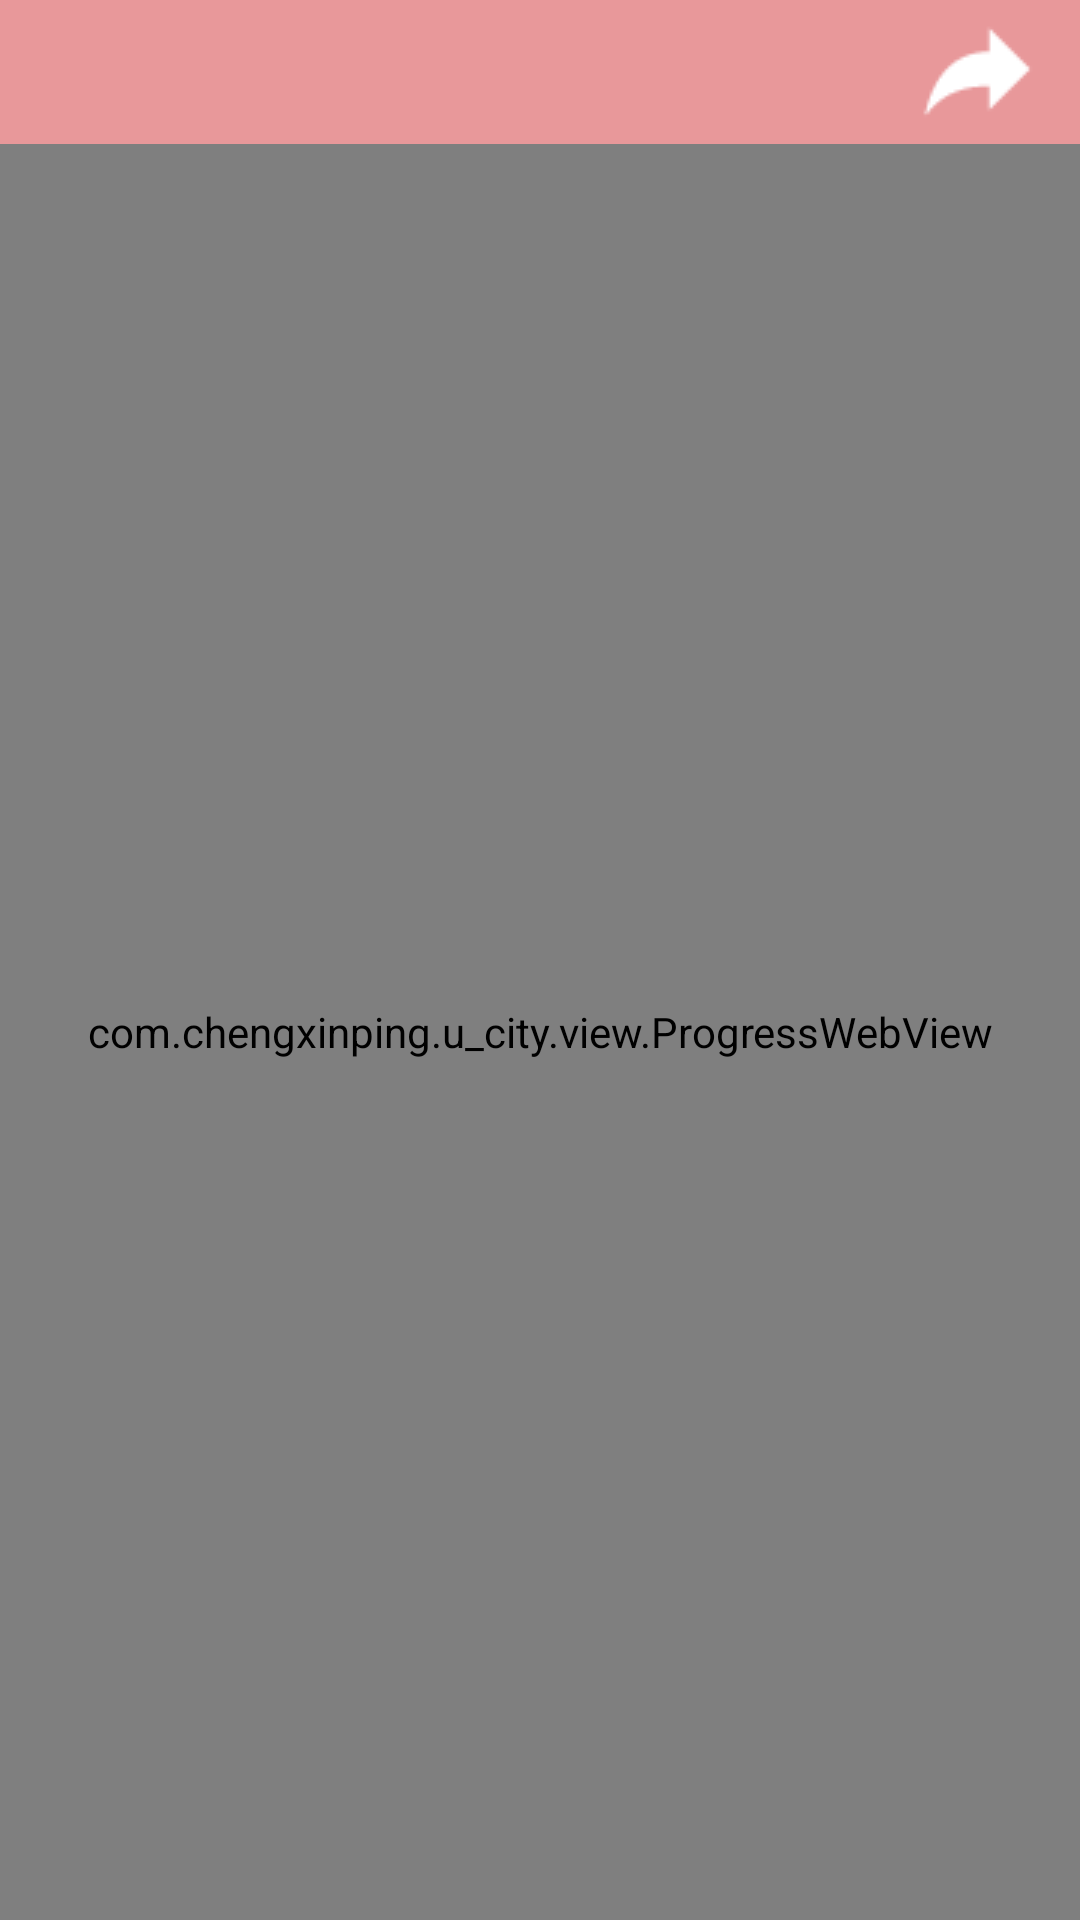

Point at icon controls on the screen. Image size 1080px x 1920px, points as point (x, y).
share: point (977, 71)
